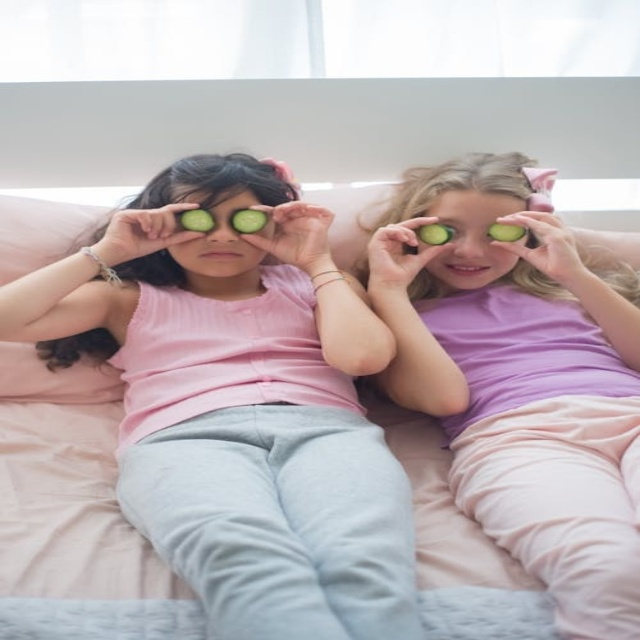Sin_guantes: (365, 215, 456, 287), (244, 200, 337, 265), (495, 208, 581, 270), (105, 202, 204, 254)
Sin_mascara: (195, 244, 247, 276), (445, 261, 495, 287)
